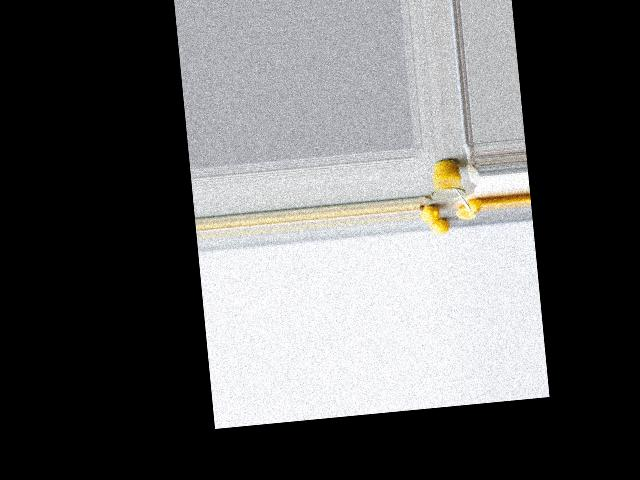lemon: (426, 220, 449, 237)
